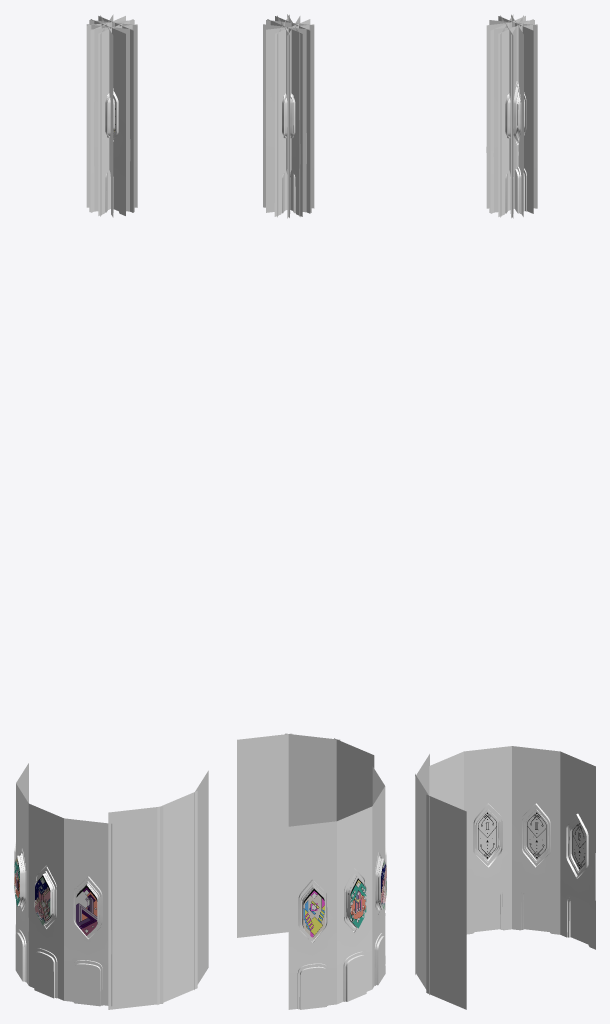
The model's file is RotatorContainer.fbx.
The picture shows the model from 3 angles, left to right: view 1: azimuth 30°, elevation 25°; view 2: azimuth 150°, elevation 25°; view 3: azimuth 270°, elevation 25°; orthographic projection.
Parts seen in each view (by area): view 1: Misc_Lighthouse_Select_Chapter (×13), Quad (×3), StainedGlass (×2); view 2: Misc_Lighthouse_Select_Chapter (×13), Quad (×3), StainedGlass (×2); view 3: Misc_Lighthouse_Select_Chapter (×14), Quad (×3), BottomShutter (×2).
Part boxes in pixels (x1=…): Misc_Lighthouse_Select_Chapter (×13): x1=14, y1=14, x2=137, y2=1006; Quad (×3): x1=108, y1=770, x2=208, y2=1009; StainedGlass (×2): x1=35, y1=877, x2=97, y2=935; Misc_Lighthouse_Select_Chapter (×13): x1=263, y1=14, x2=386, y2=1009; Quad (×3): x1=237, y1=733, x2=374, y2=937; StainedGlass (×2): x1=303, y1=880, x2=366, y2=939; Misc_Lighthouse_Select_Chapter (×14): x1=429, y1=14, x2=595, y2=949; Quad (×3): x1=415, y1=754, x2=466, y2=1009; BottomShutter (×2): x1=477, y1=823, x2=546, y2=860.
Size of the model in its own units: 46.62 by 265 by 45.78.
5 materials, 2 textured.
